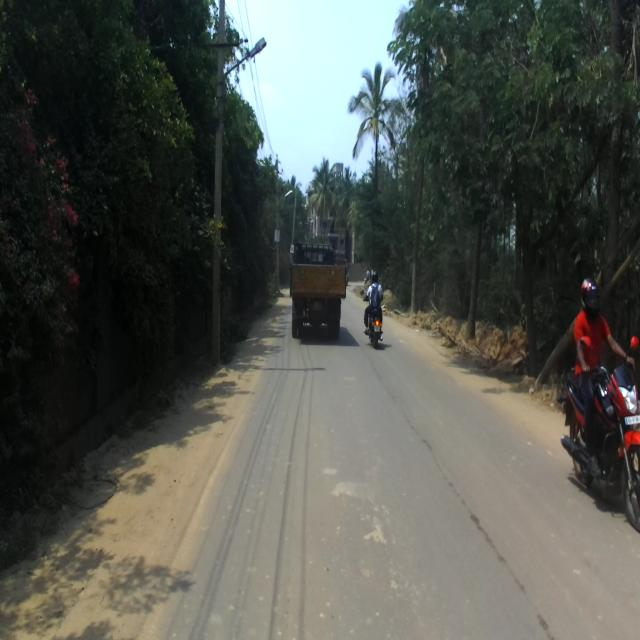electric pole ahead at: (205, 0, 251, 376)
motorcycle ahead at: (566, 332, 640, 520)
truck ahead at: (287, 230, 349, 342)
